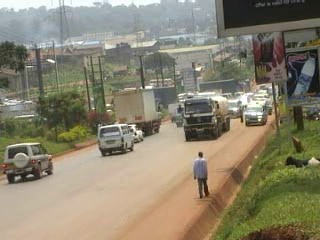Car: (3, 141, 55, 184), (124, 120, 145, 145)
